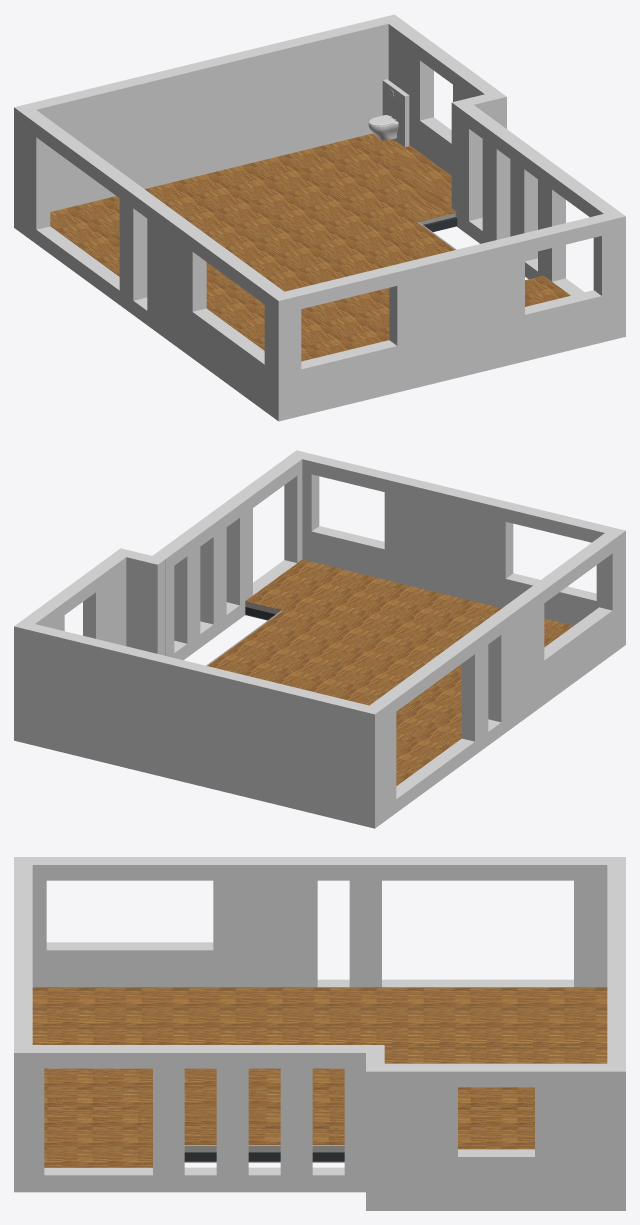
3 renders of one model, top to bottom at view 1: azimuth 30°, elevation 25°; view 2: azimuth 150°, elevation 25°; view 3: azimuth 270°, elevation 25°, orthographic. The views are drawn at different scales.
Visible parts, largest first — view 1: OG.002, Boden.Parkett.002, toilet.006; view 2: OG.002, Boden.Parkett.002; view 3: OG.002, Boden.Parkett.002, Metall-Träger-Schicht.001, Boden.Orig.001.
Boxes of the visible parts, x1,y1,x2,y2 form: OG.002: (14,14,625,421); Boden.Parkett.002: (50,133,570,361); toilet.006: (368,79,409,146); OG.002: (14,450,625,828); Boden.Parkett.002: (208,559,573,785); OG.002: (14,857,625,1210); Boden.Parkett.002: (32,987,607,1167); Metall-Träger-Schicht.001: (184,1152,344,1161); Boden.Orig.001: (184,1145,344,1162).
Size of the model in its own units: 9.92 by 3 by 11.95.
Materials: 6 (1 with a texture image).
